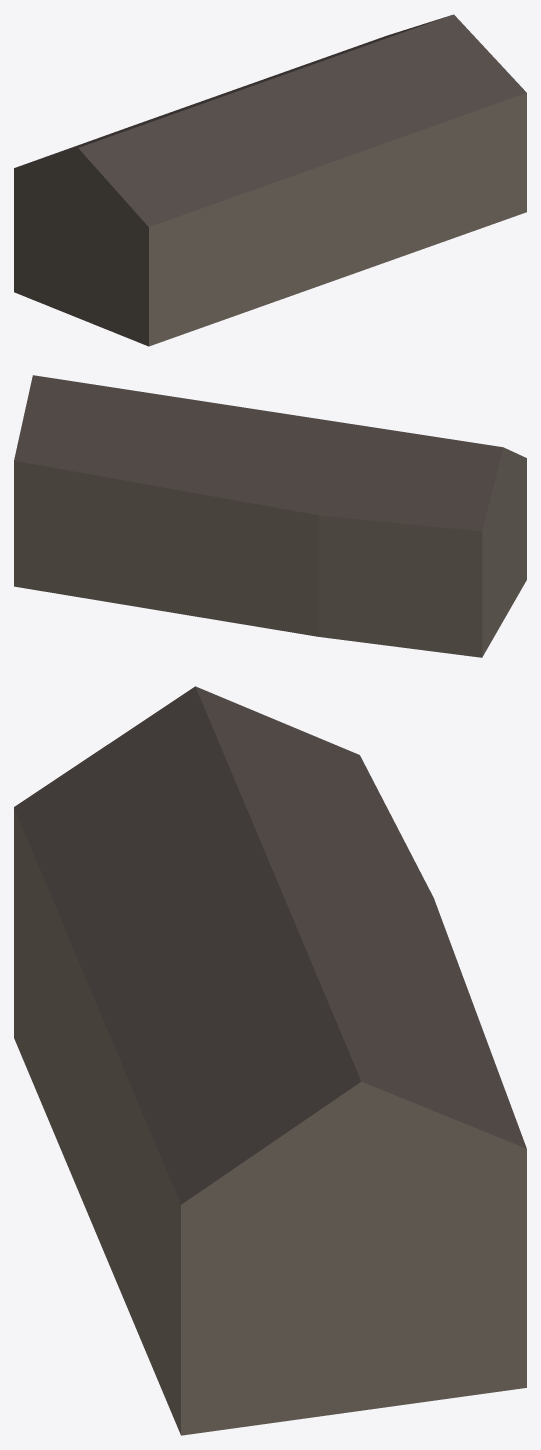
3 views of the same model, one above another, from view 1: azimuth 30°, elevation 25°; view 2: azimuth 150°, elevation 25°; view 3: azimuth 270°, elevation 25° (orthographic). The views are drawn at different scales.
Parts seen in each view (by area): view 1: HP-w1512911284; view 2: HP-w1512911284; view 3: HP-w1512911284.
Boxes of the visible parts, bbox=[...] form: HP-w1512911284: bbox=[14, 14, 526, 346]; HP-w1512911284: bbox=[14, 375, 526, 657]; HP-w1512911284: bbox=[14, 686, 526, 1435].
Size of the model in its own units: 24.56 by 8.56 by 12.09.
